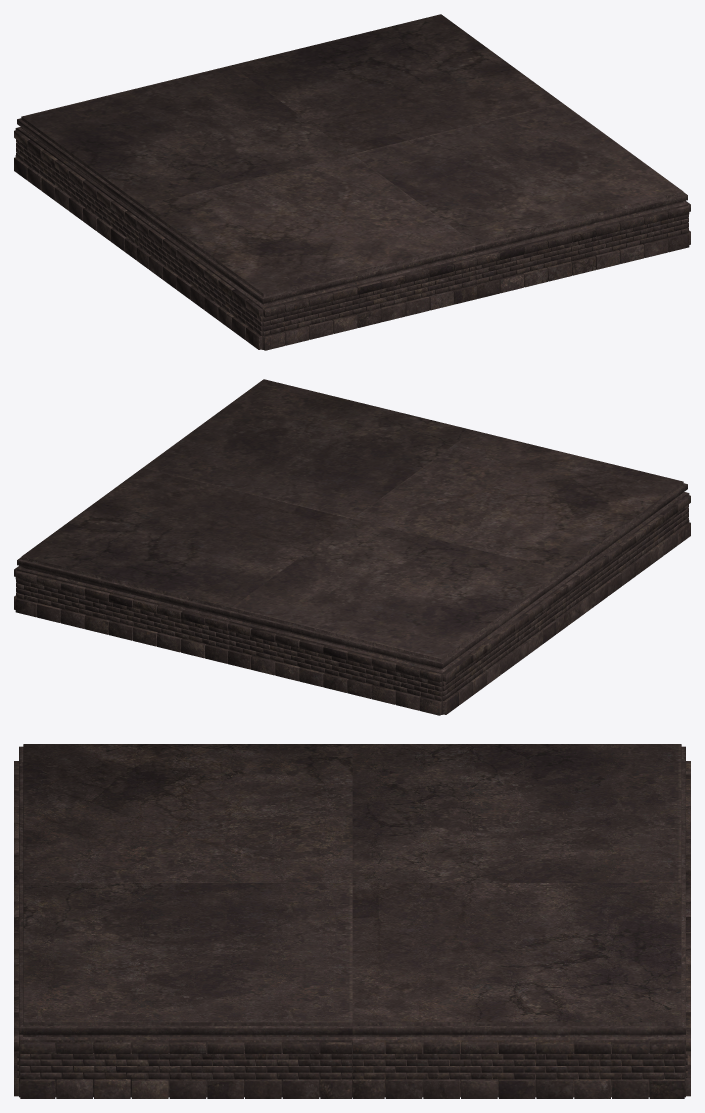
The model's file is SK1 EXT BASE SMALL.fbx.
3 views of the same model, one above another, from view 1: azimuth 30°, elevation 25°; view 2: azimuth 150°, elevation 25°; view 3: azimuth 270°, elevation 25° (orthographic). The views are drawn at different scales.
Visible parts, largest first — view 1: SK1 EXT BASE SMALL.001; view 2: SK1 EXT BASE SMALL.001; view 3: SK1 EXT BASE SMALL.001.
Boxes of the visible parts, x1=… form: SK1 EXT BASE SMALL.001: x1=14, y1=14, x2=690, y2=350; SK1 EXT BASE SMALL.001: x1=14, y1=379, x2=690, y2=715; SK1 EXT BASE SMALL.001: x1=14, y1=744, x2=690, y2=1098.
Bounding box in the file's own units: 845 × 101 × 845.
